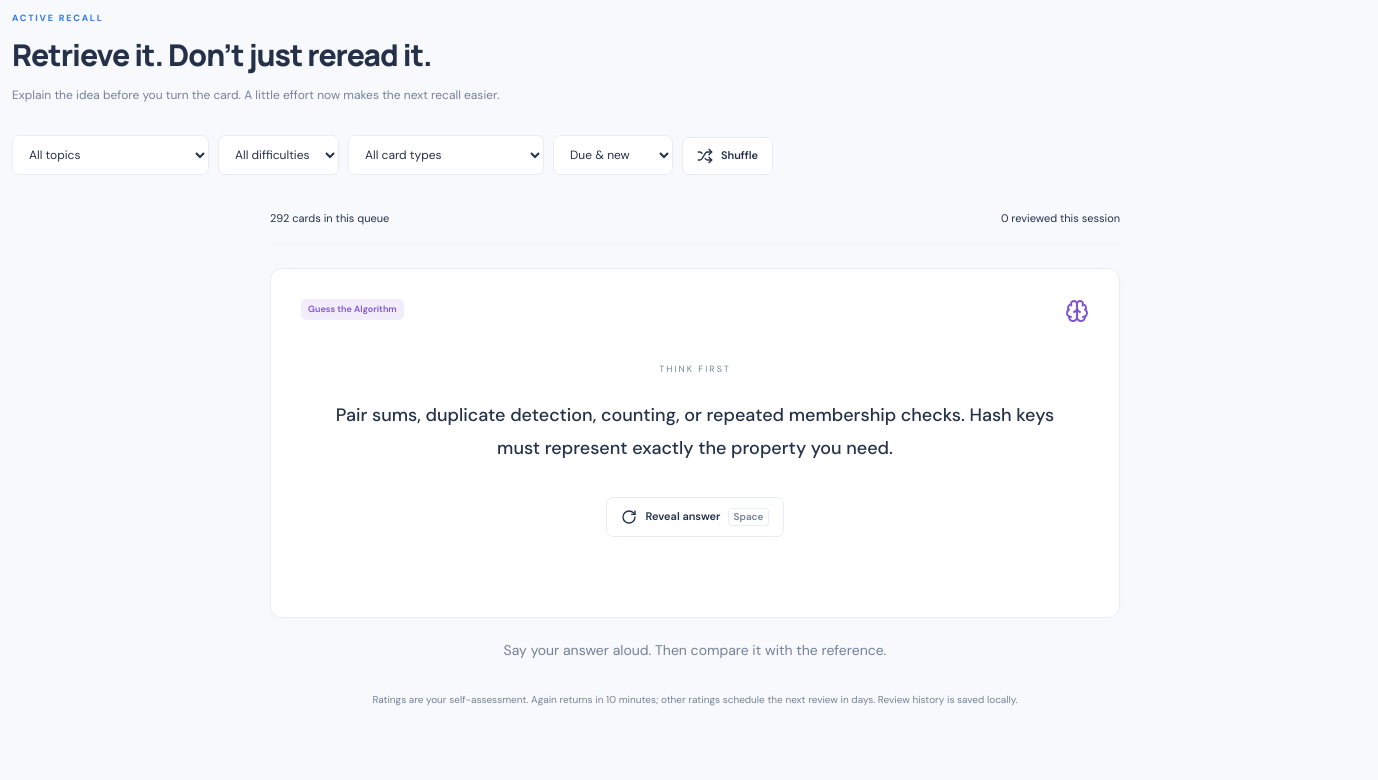
it: critical learning interactions › requires a reveal before rating and saves the spaced repetition schedule
This screenshot has width=1378, height=780.
Click the button "Reveal answer Space". click: (695, 517)
box: [606,497,784,537]
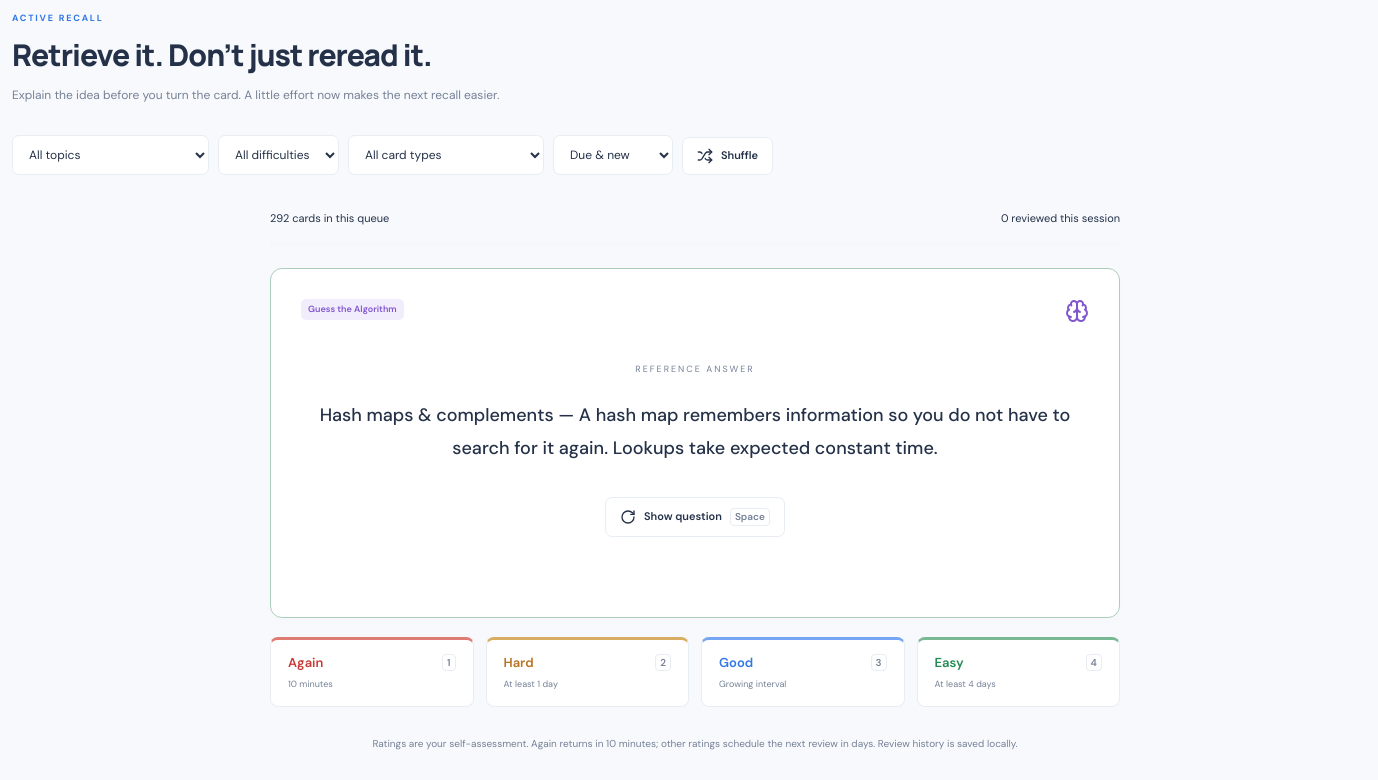
Click the button "Again 1 10 minutes". click: (372, 672)
box: [270,637,474,707]
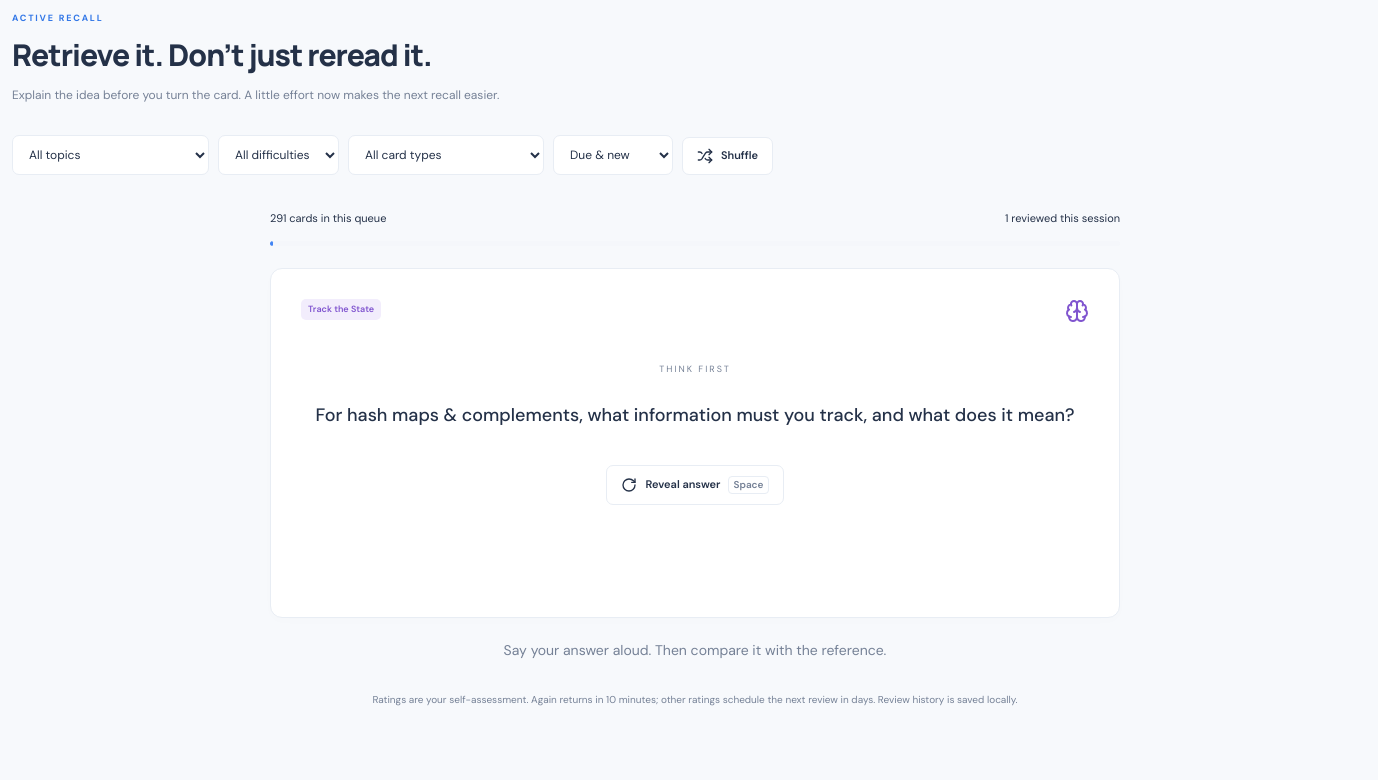
expect the text "1 reviewed this session" is shown: met, box [1005,210,1120,227]
